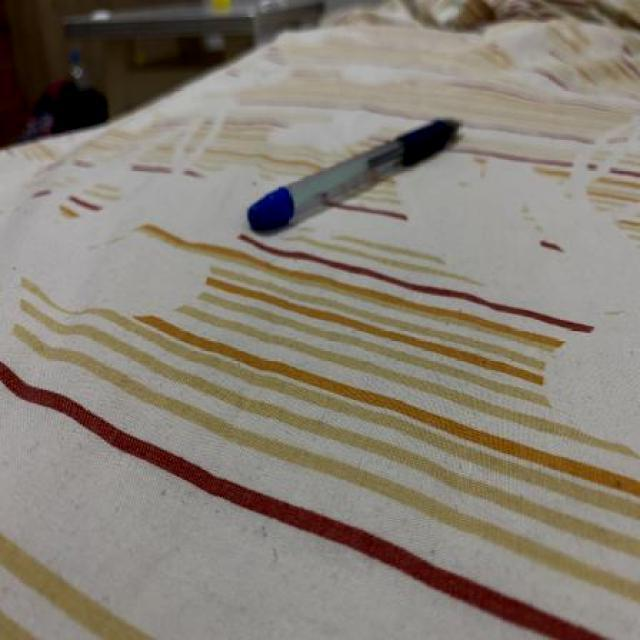pen: (244, 110, 460, 234)
